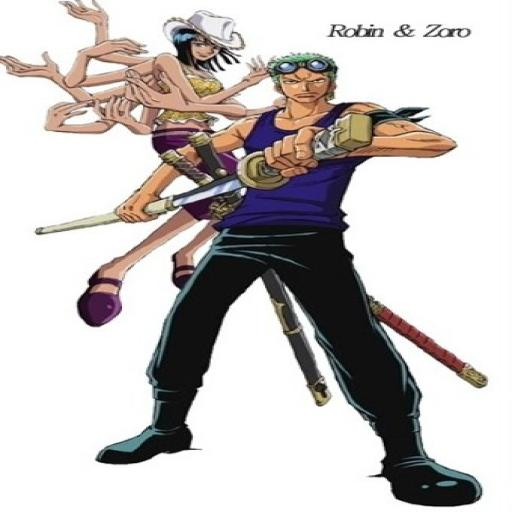NicoRobin: (167, 10, 248, 67)
Zoro: (272, 46, 356, 109)
